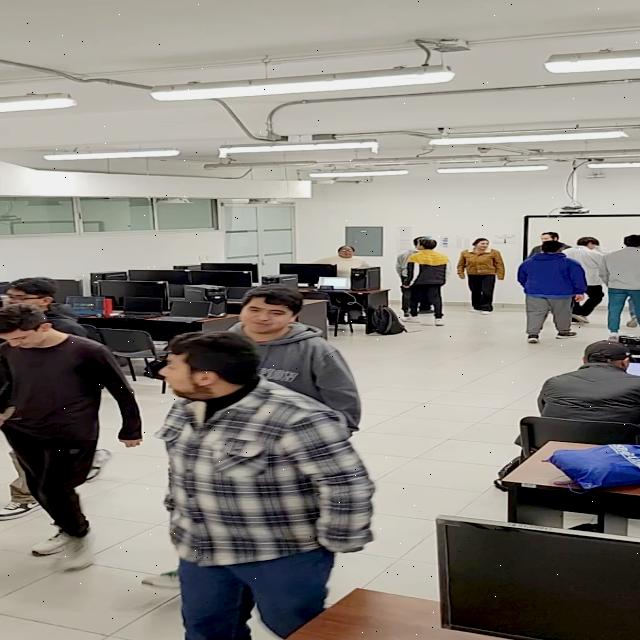Persona: (154, 335, 360, 640), (0, 304, 129, 578), (234, 281, 364, 428), (517, 240, 591, 346), (398, 237, 450, 331), (600, 234, 640, 340), (454, 234, 504, 315)
